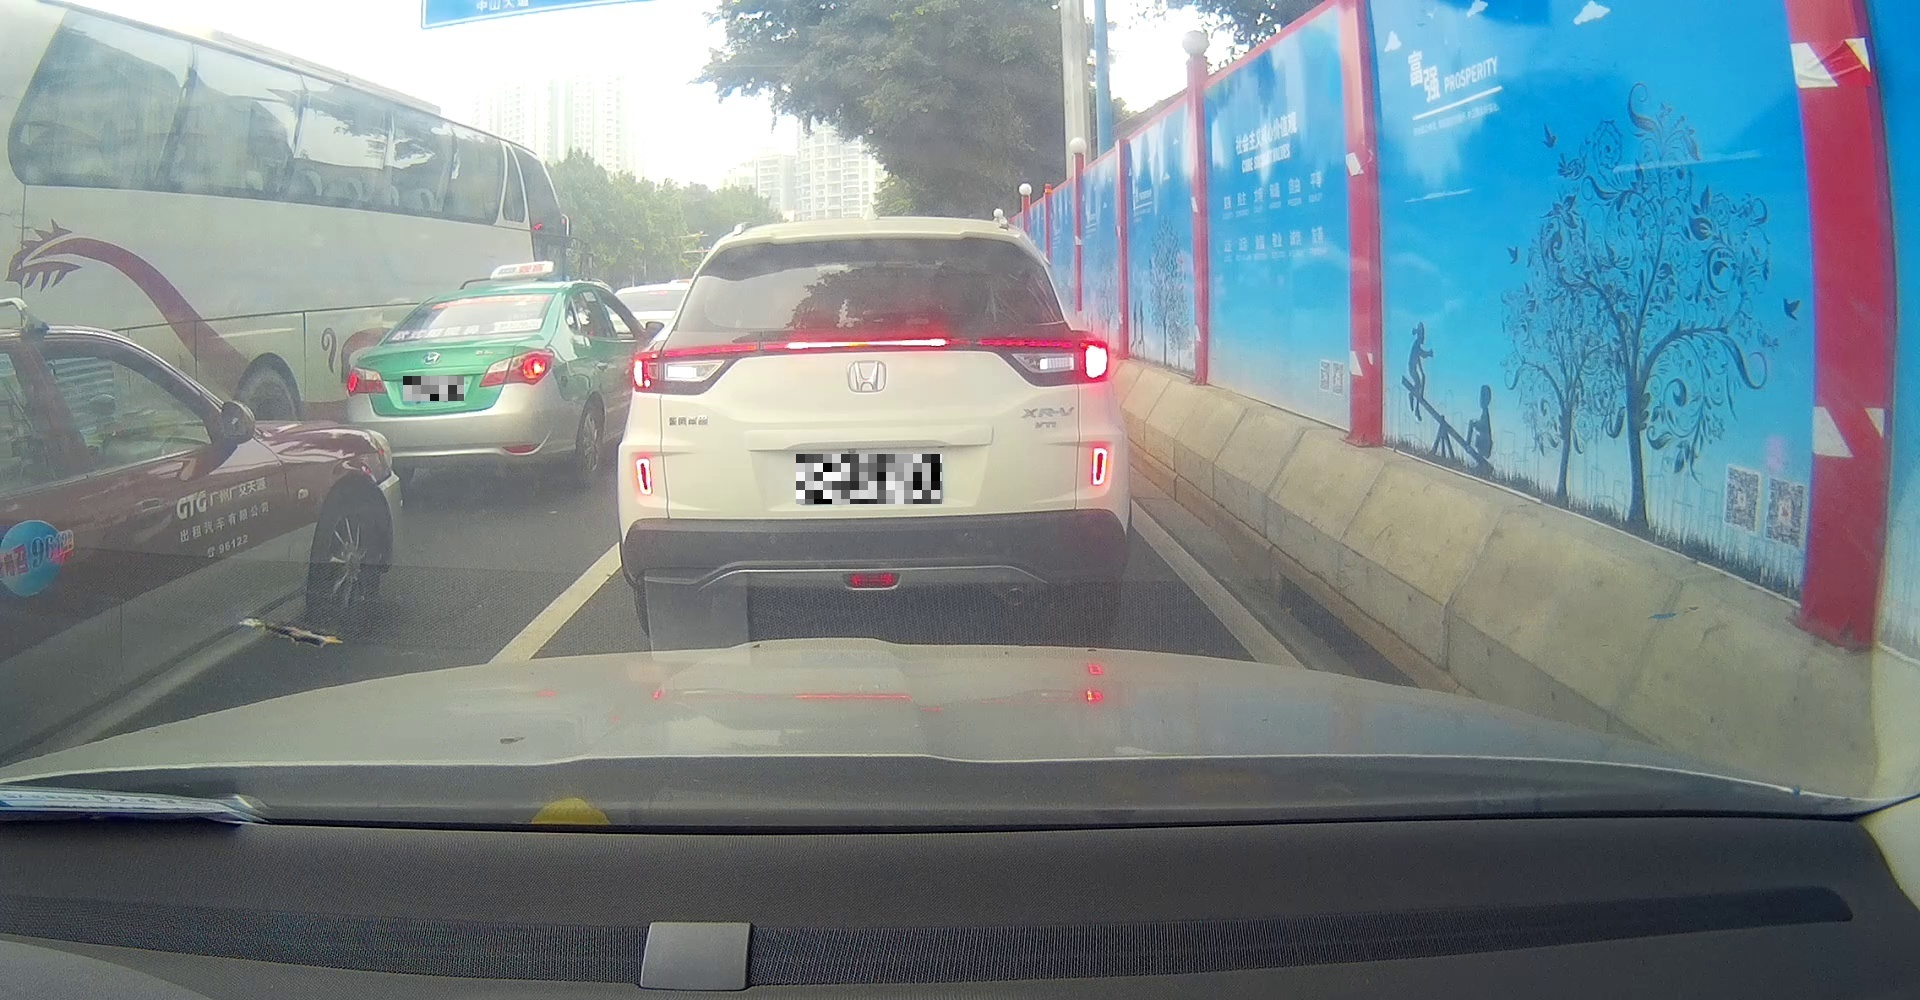L_light: (629, 344, 756, 395), (345, 365, 389, 396)
R_light: (980, 339, 1110, 388), (479, 350, 554, 388)
T_light: (783, 338, 949, 352), (463, 294, 502, 305)
day-brake: (618, 214, 1131, 640), (345, 282, 557, 489)
plate_1: (403, 376, 463, 401)
plate_2: (796, 454, 942, 504)
